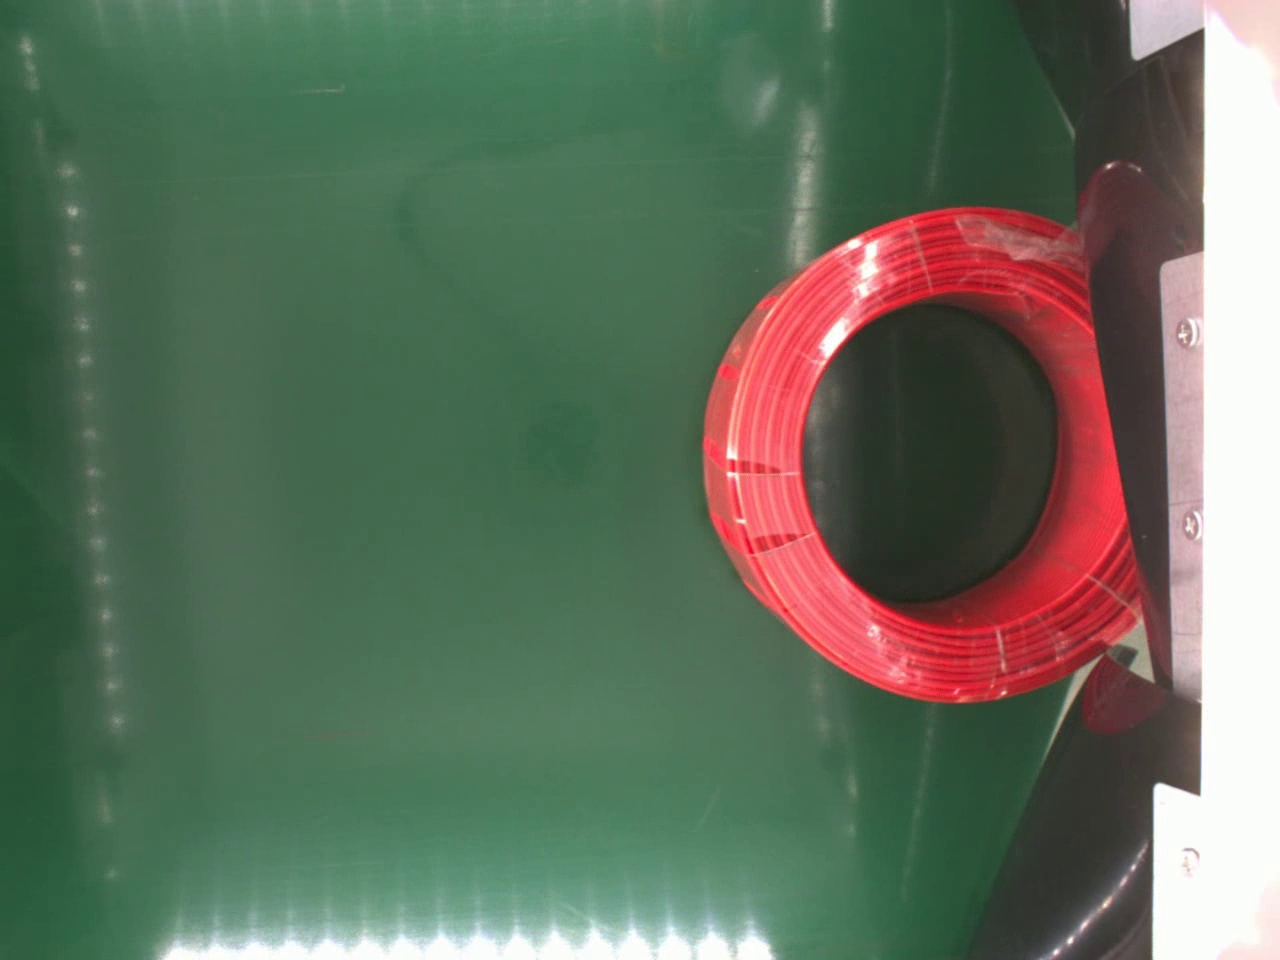red: (693, 201, 1150, 704)
